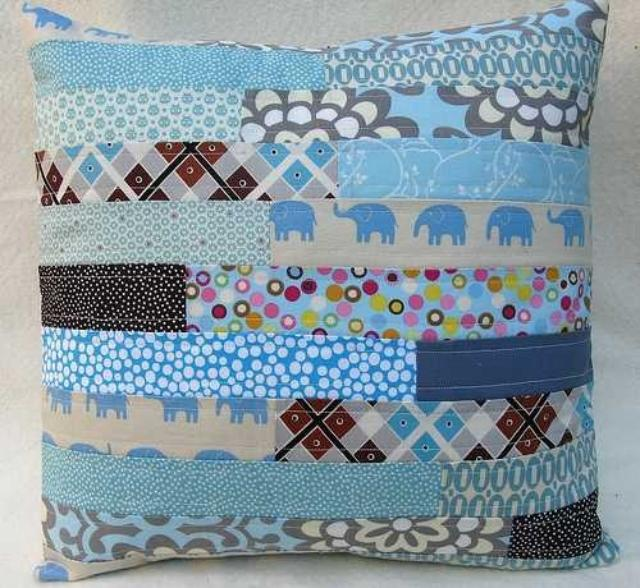pillow: (28, 0, 614, 580)
